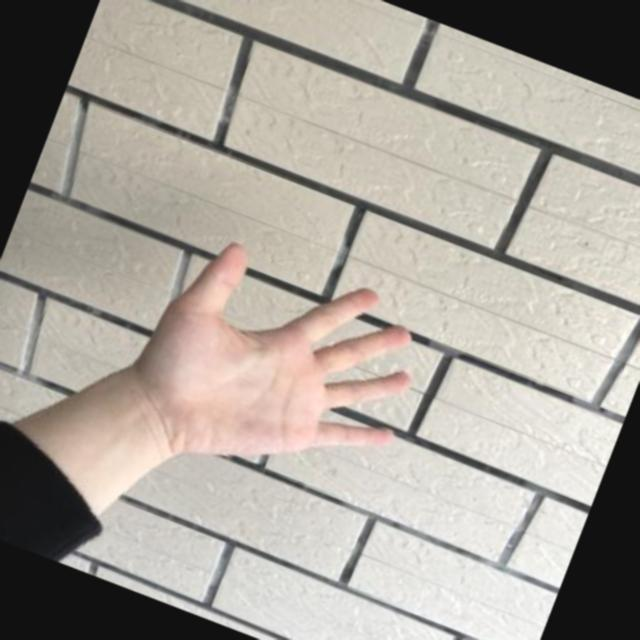hand: (110, 210, 456, 524)
